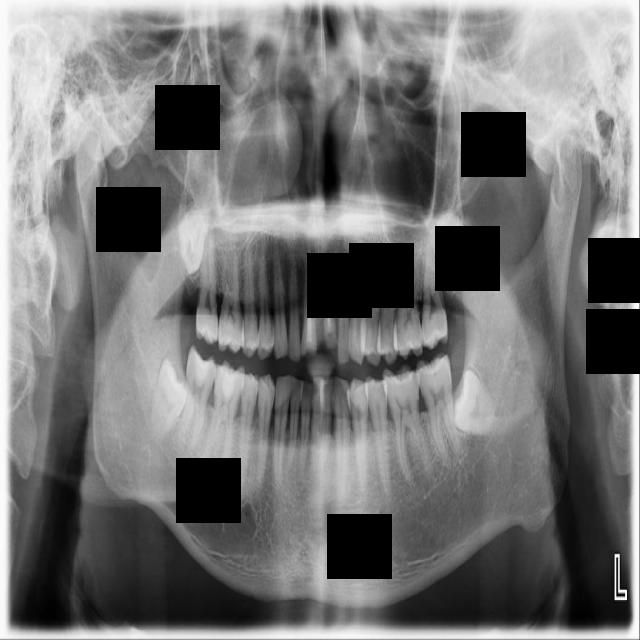3M ESPE Implant: (176, 208, 209, 276)
52: (180, 343, 221, 399), (212, 359, 246, 418)
73: (315, 265, 340, 351), (301, 254, 320, 357), (619, 602, 630, 614)
BioHorizons Implant: (420, 234, 449, 349)
BioLife Implant: (422, 210, 468, 280)
Biomet 3i Implant: (448, 367, 497, 440)
Blue Sky Bio Implant: (414, 351, 463, 464)
Caries: (196, 229, 218, 345)
Implant: (176, 344, 219, 457)
Keystone Dental Implant: (144, 356, 195, 446)
